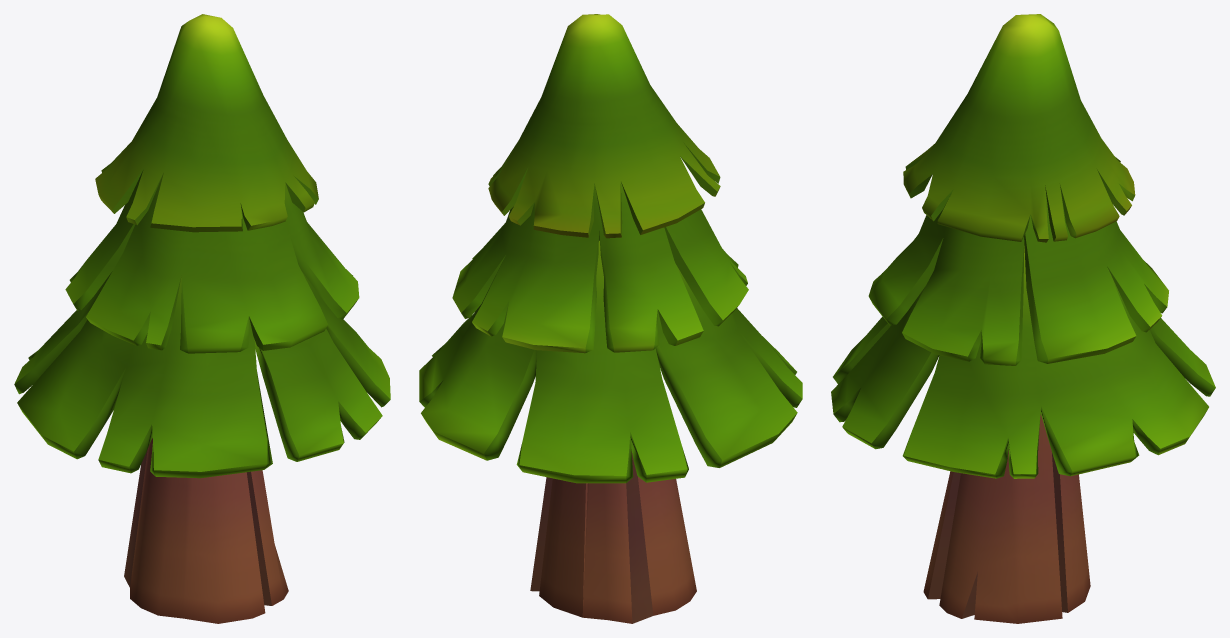
Rendered from meta_tree_1.fbx.
The picture shows the model from 3 angles, left to right: view 1: azimuth 30°, elevation 25°; view 2: azimuth 150°, elevation 25°; view 3: azimuth 270°, elevation 25°; orthographic projection. The views are drawn at different scales.
Parts seen in each view (by area): view 1: meta_tree_1; view 2: meta_tree_1; view 3: meta_tree_1.
Boxes of the visible parts, x1,y1,x2,y2 form: meta_tree_1: [14, 14, 390, 623]; meta_tree_1: [419, 14, 802, 623]; meta_tree_1: [831, 14, 1215, 623].
Size of the model in its own units: 144 by 234 by 141.
